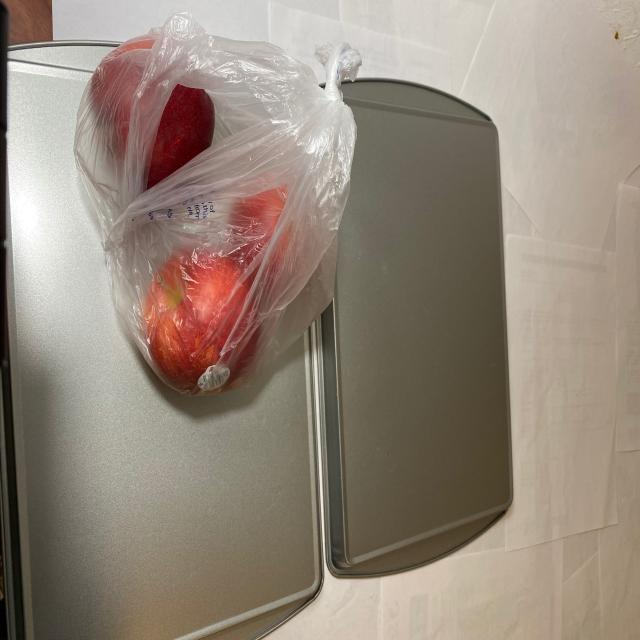apple: (66, 33, 314, 394)
